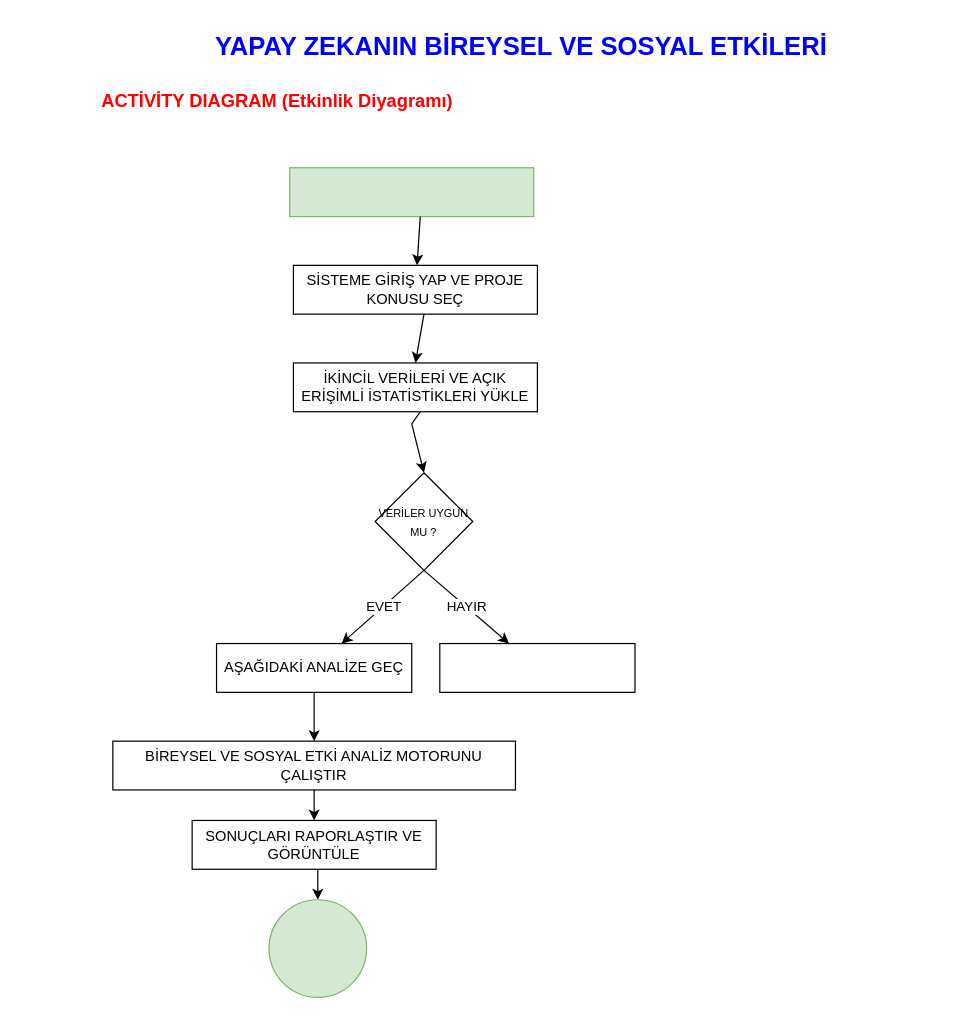
The diagram is 956 pixels wide and 1019 high, and some of its shapes have lost their labels. Each missing label, with the box of its shape:
BAŞLA: (289, 167, 534, 217)
BİTİR: (268, 899, 367, 997)
GERİ DÖNÜP VERİ YÜKLEME ADIMINA GİT: (439, 642, 635, 692)
